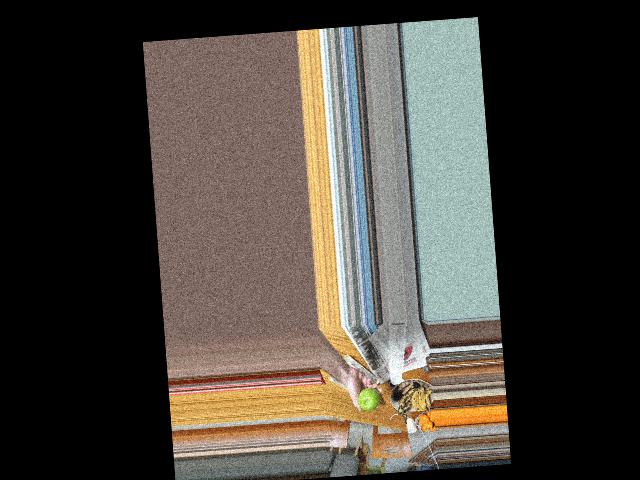apple: (355, 386, 380, 412)
